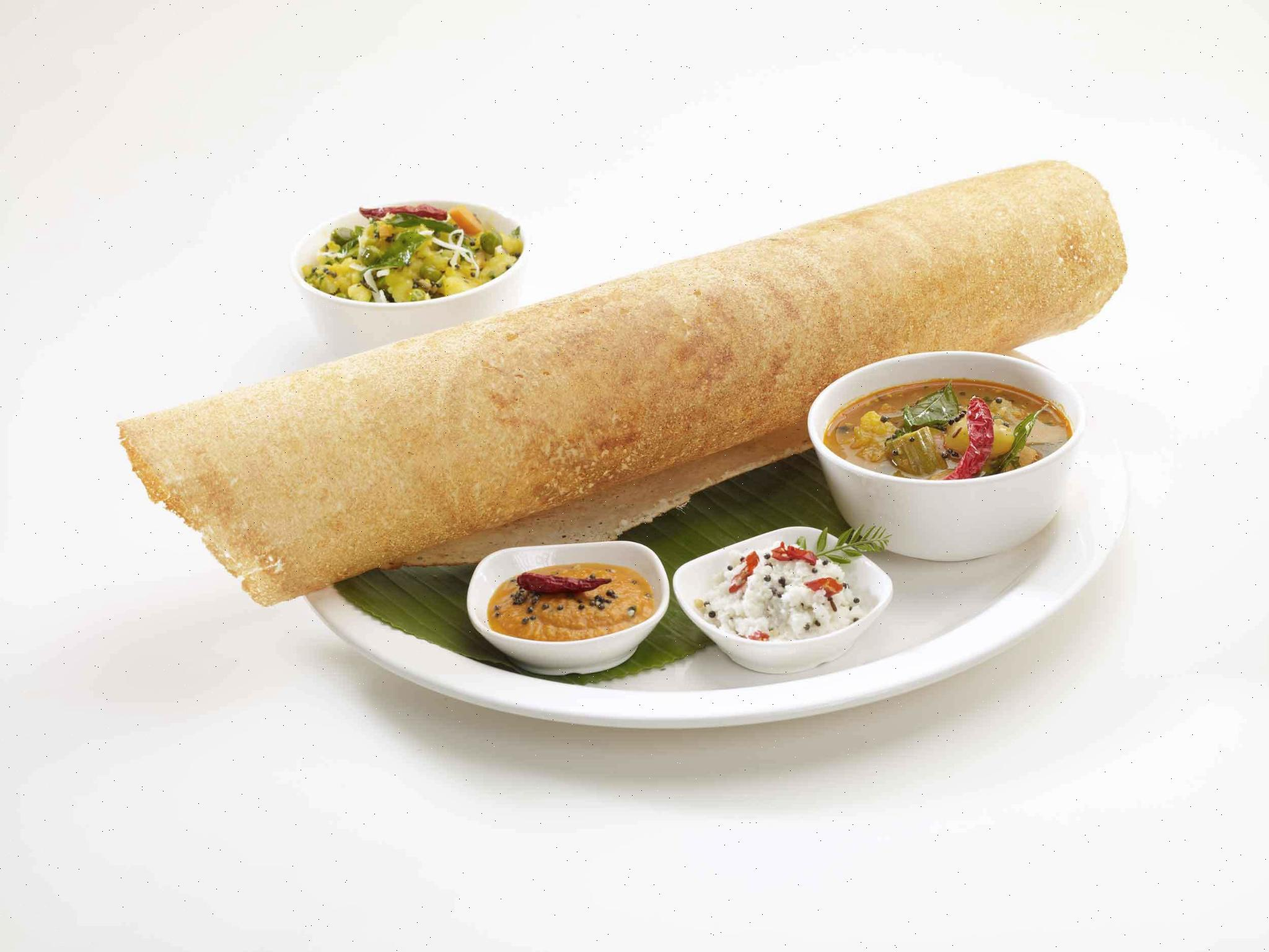aloo sabji: (260, 168, 544, 297)
dosa: (139, 197, 1117, 560)
sambhar: (818, 364, 1066, 471)
